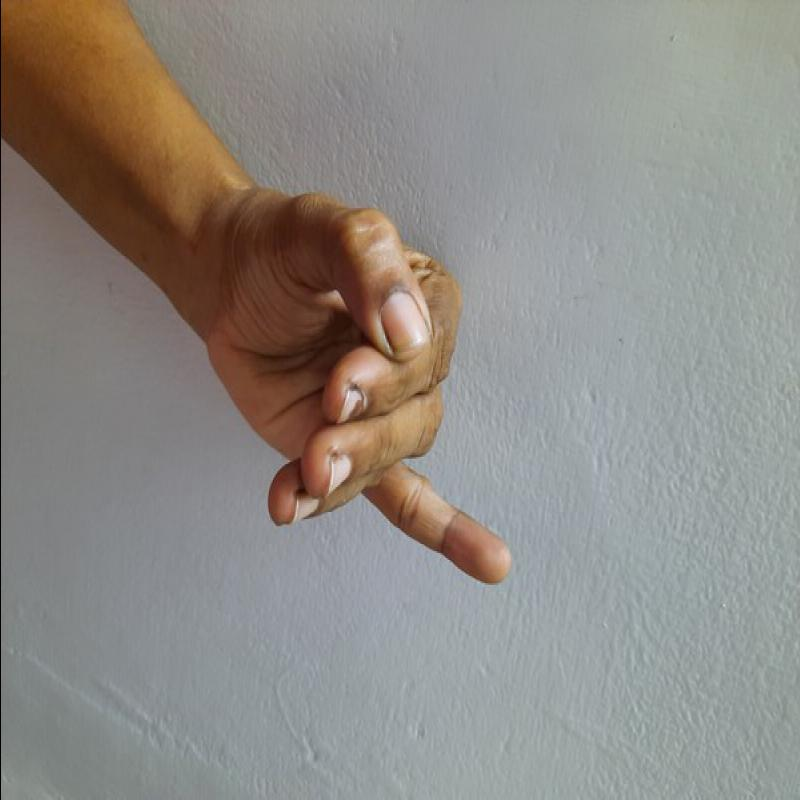Kartharee Mukham: (196, 183, 552, 598)
